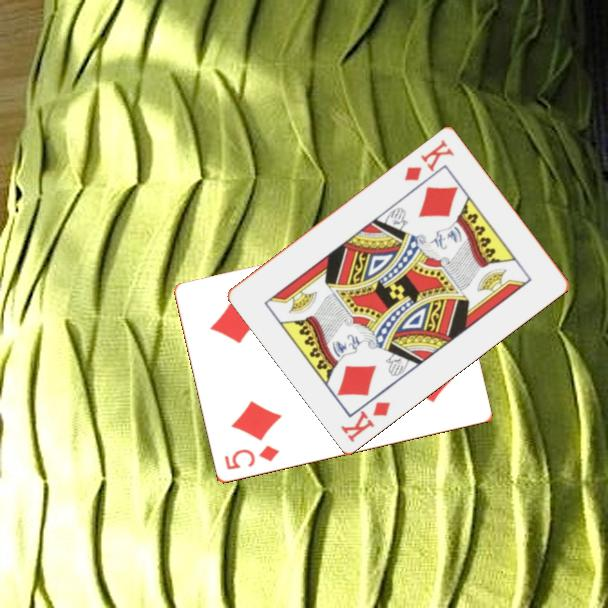d05: (221, 442, 282, 473)
d13: (337, 397, 394, 445), (401, 136, 457, 183)
